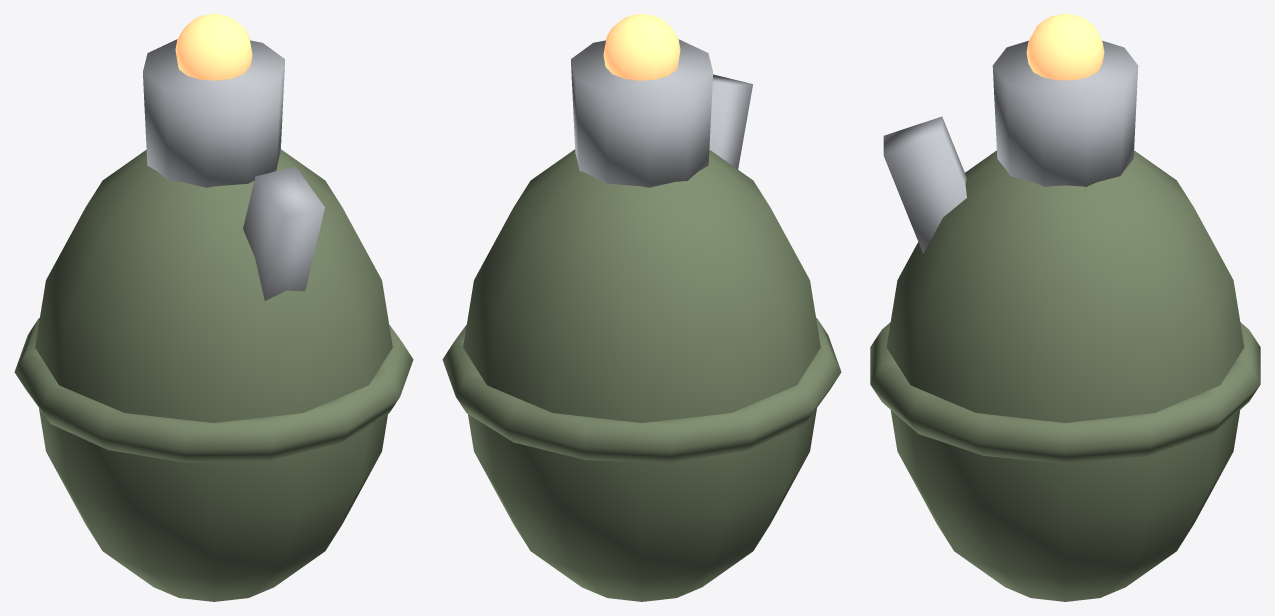
The model's file is frag-grenade.glb.
3 views of the same model, side by side, from view 1: azimuth 30°, elevation 25°; view 2: azimuth 150°, elevation 25°; view 3: azimuth 270°, elevation 25° (orthographic).
Visible parts, largest first — view 1: Grenade; view 2: Grenade; view 3: Grenade.
Boxes of the visible parts, left/top/right/bottom form: Grenade: left=14, top=14, right=413, bottom=601; Grenade: left=442, top=14, right=841, bottom=601; Grenade: left=870, top=14, right=1260, bottom=601.
Size of the model in its own units: 0.154 by 0.243 by 0.1501.
